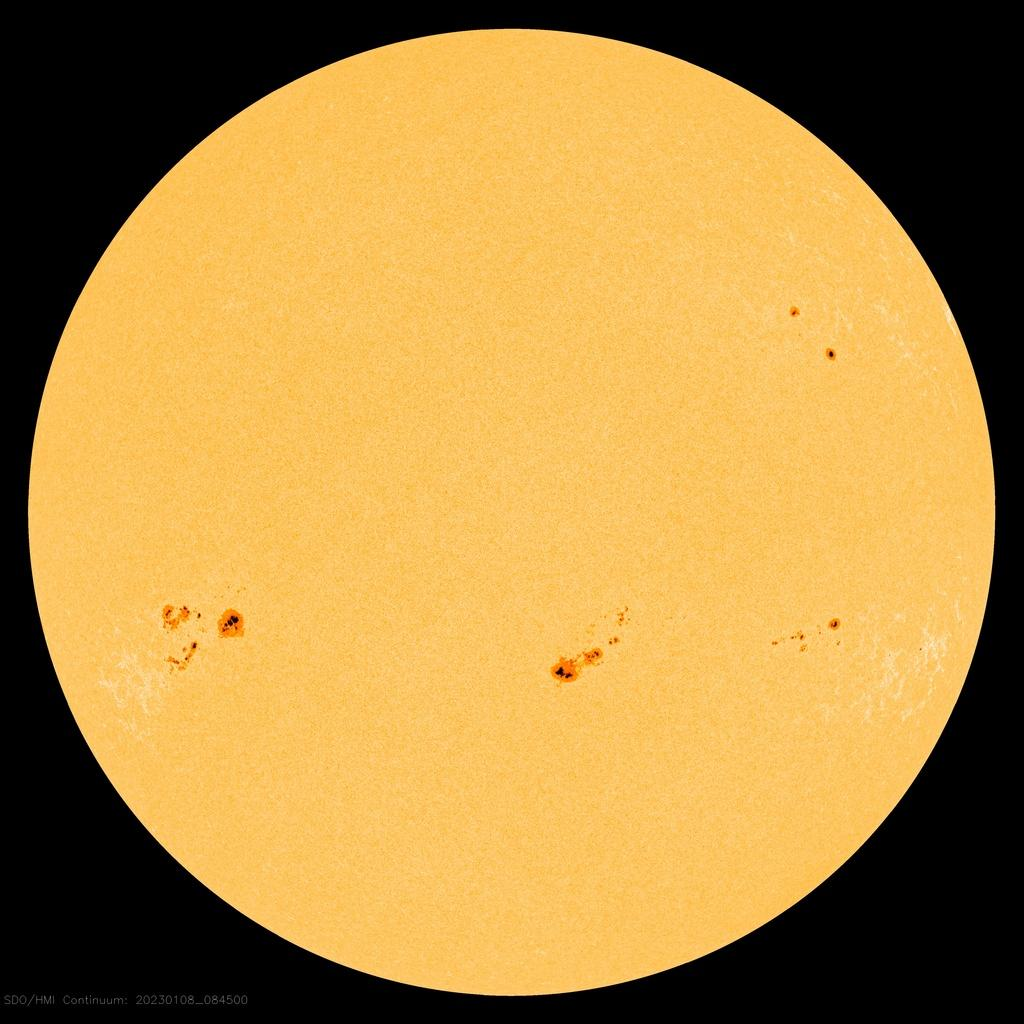flare: (528, 592, 644, 697), (152, 590, 254, 684), (760, 609, 855, 663), (775, 291, 813, 330), (817, 334, 845, 374)
